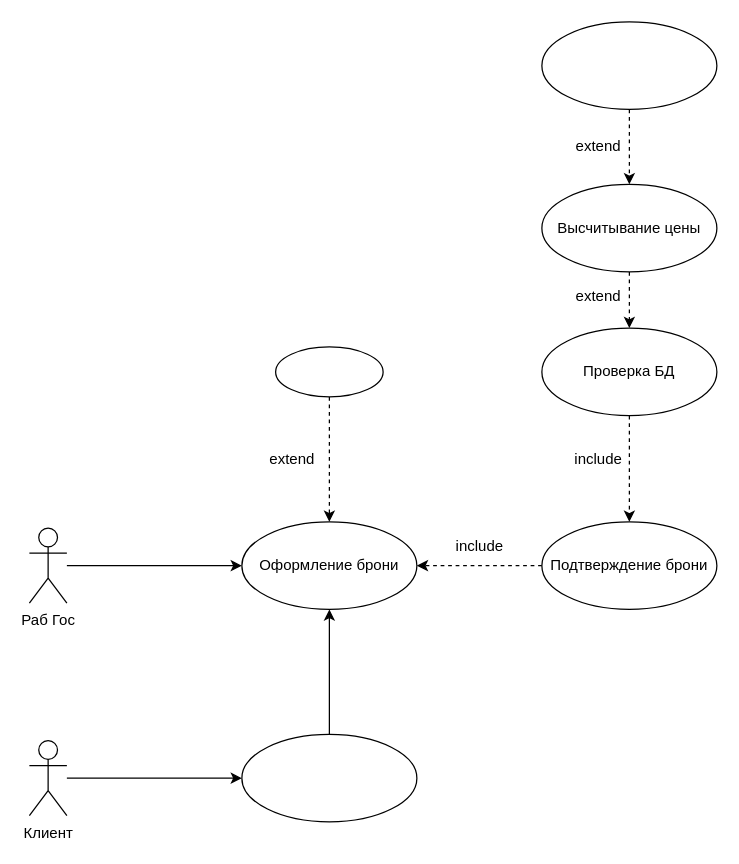
This 739x864 diagram has some shape labels left out. Each missing label, with the box of its shape:
Высчитывание скидки: (541, 21, 717, 109)
заявка(бронь)/аренда: (241, 733, 417, 822)
Отказ: (274, 346, 383, 397)
